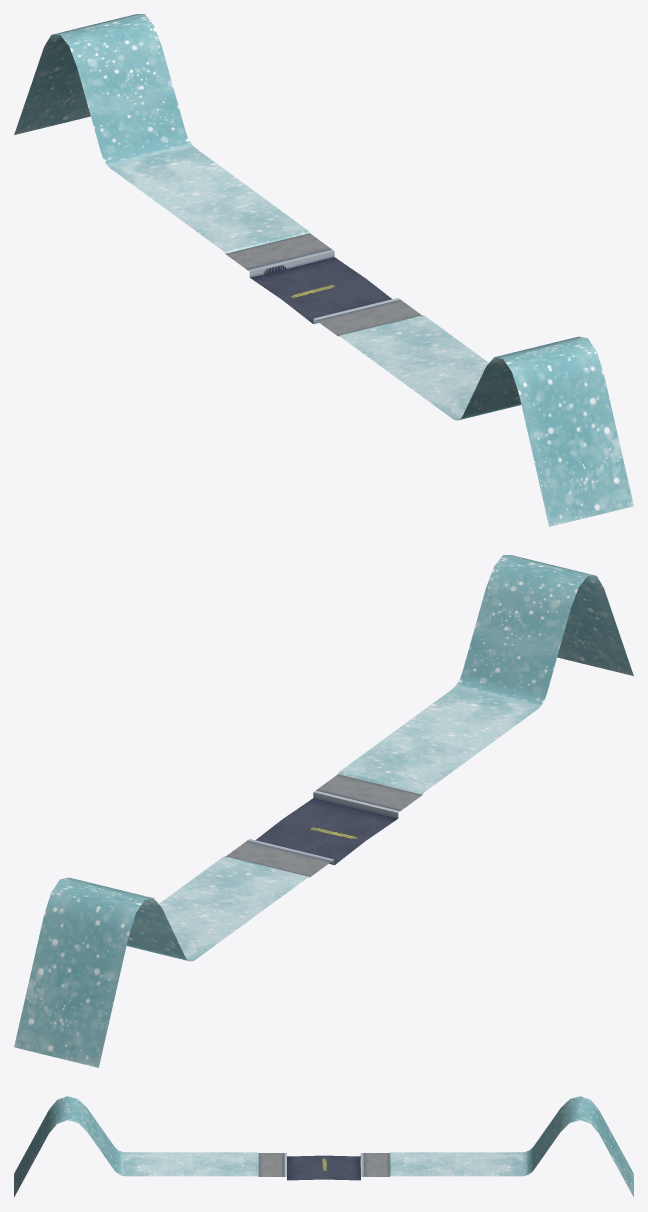
File: street2.fbx
The picture shows the model from 3 angles, top to bottom: view 1: azimuth 30°, elevation 25°; view 2: azimuth 150°, elevation 25°; view 3: azimuth 270°, elevation 25°; orthographic projection. The views are drawn at different scales.
Visible parts, largest first — view 1: Plane; view 2: Plane; view 3: Plane.
Boxes of the visible parts, x1,y1,x2,y2 form: Plane: (14, 14, 633, 526); Plane: (14, 555, 633, 1067); Plane: (14, 1096, 633, 1197).
Bounding box in the file's own units: 769 × 1162 × 8400.
8 materials, 8 textured.
